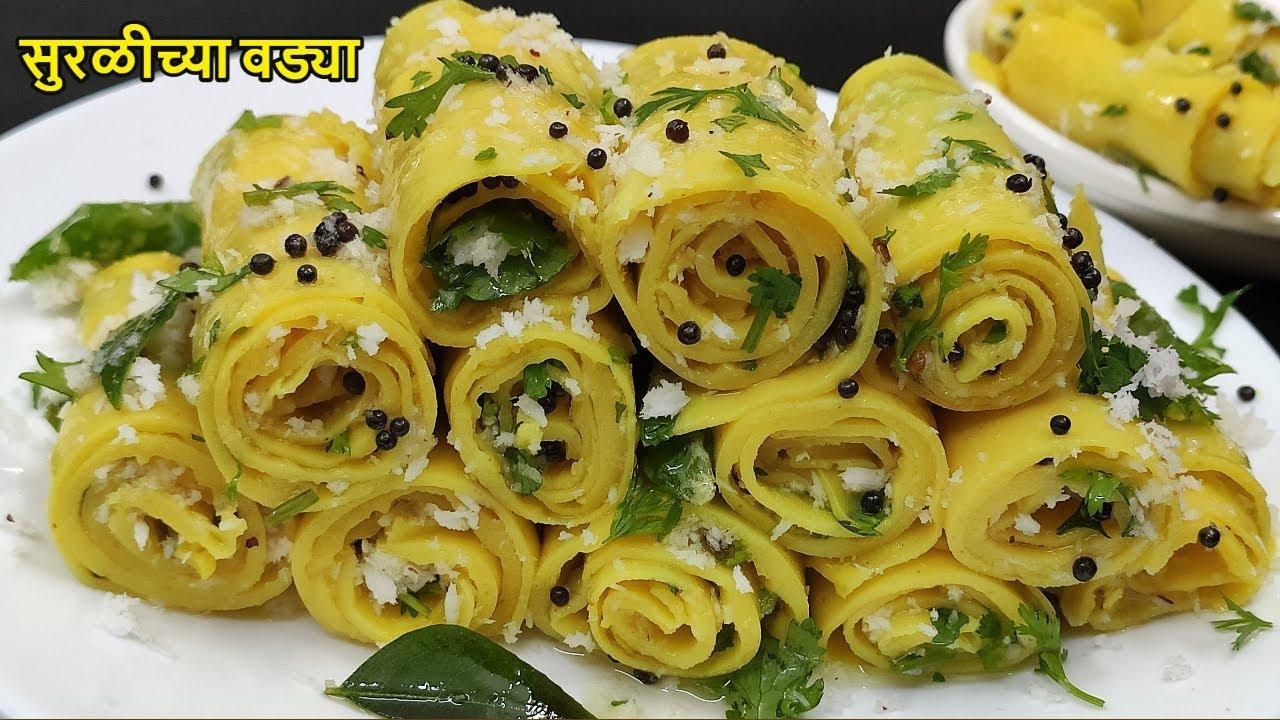khandvi: (104, 96, 1280, 650)
